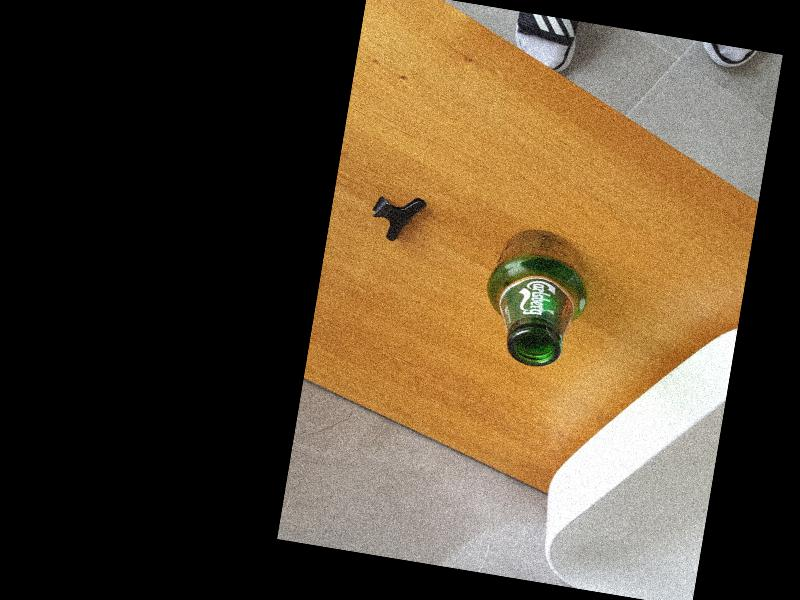Beer: (475, 222, 598, 372)
